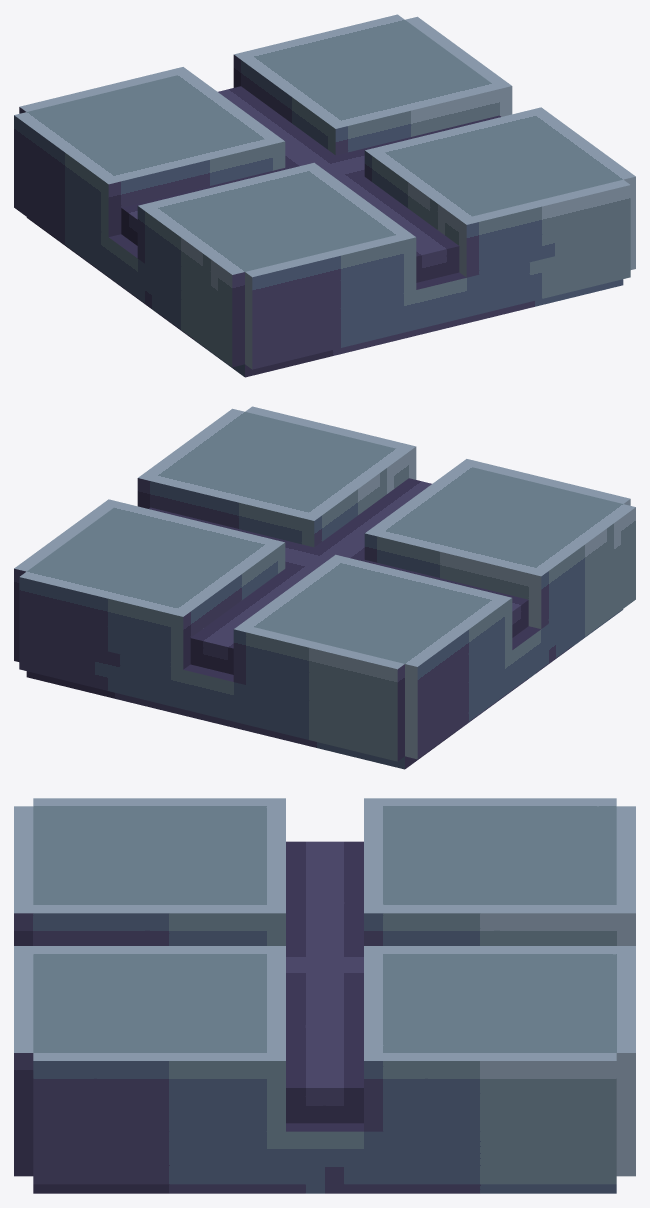
The model's file is nutbolt_capao.fezao.glb.
3 renders of one model, top to bottom at view 1: azimuth 30°, elevation 25°; view 2: azimuth 150°, elevation 25°; view 3: azimuth 270°, elevation 25°, orthographic. The views are drawn at different scales.
Parts seen in each view (by area): view 1: NUTBOLT_CAPAO; view 2: NUTBOLT_CAPAO; view 3: NUTBOLT_CAPAO.
Boxes of the visible parts, x1=… form: NUTBOLT_CAPAO: x1=14, y1=14, x2=635, y2=377; NUTBOLT_CAPAO: x1=14, y1=406, x2=635, y2=769; NUTBOLT_CAPAO: x1=14, y1=798, x2=635, y2=1193.
Bounding box in the file's own units: 2 × 0.5 × 2.
Materials: 1 (1 with a texture image).
